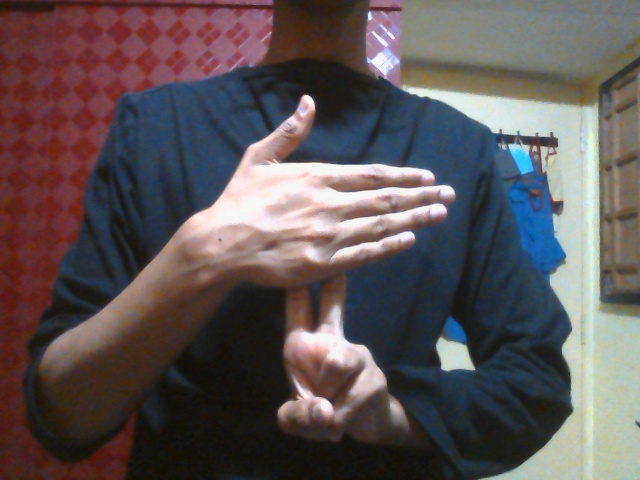N: (213, 93, 454, 445)
